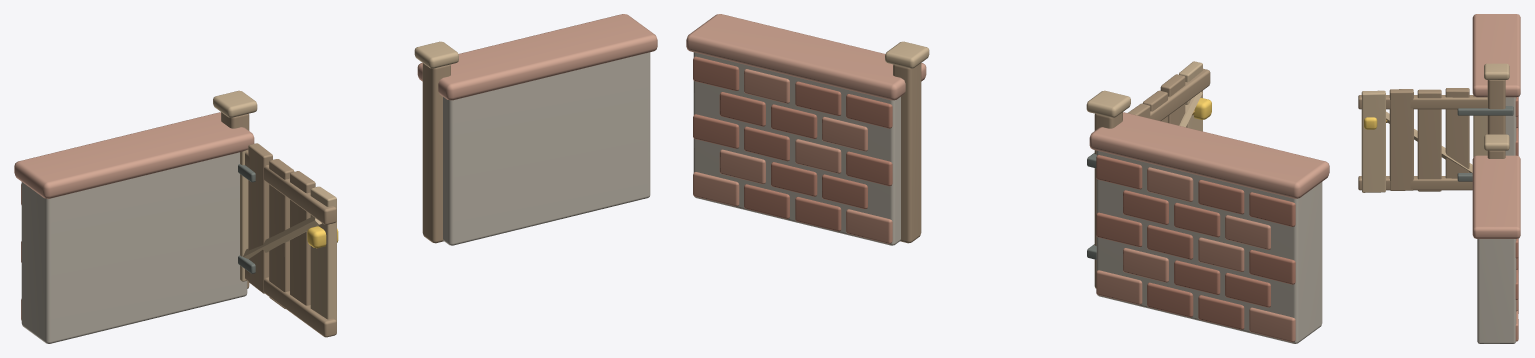
File: side_gate.glb
3 renders of one model, left to right at view 1: azimuth 30°, elevation 25°; view 2: azimuth 150°, elevation 25°; view 3: azimuth 270°, elevation 25°, orthographic. The views are drawn at different scales.
Visible parts, largest first — view 1: Mortar wall core.002, Mortar wall core.003, Coping brick.002, Coping brick.003, Weathered timber gate post.003, Gate paling.006, Gate paling.009, Gate paling.007, Gate paling.008, Gate cross rail.003, Gate cross rail.002, Gate post cap.002 (+3 smaller); view 2: Mortar wall core.002, Mortar wall core.003, Coping brick.002, Coping brick.003, Weathered timber gate post.003, Hand-laid garden brick.061, Hand-laid garden brick.050, Hand-laid garden brick.036, Hand-laid garden brick.037, Hand-laid garden brick.051, Hand-laid garden brick.053, Hand-laid garden brick.043 (+35 smaller); view 3: Mortar wall core.003, Coping brick.003, Coping brick.002, Gate paling.008, Gate paling.009, Gate paling.007, Gate paling.006, Gate cross rail.003, Weathered timber gate post.002, Gate cross rail.002, Gate paling.005, Mortar wall core.002 (+7 smaller).
Boxes of the visible parts, <box> form: Mortar wall core.002: <box>21,152,247,343</box>; Mortar wall core.003: <box>443,52,650,245</box>; Coping brick.002: <box>14,112,254,198</box>; Coping brick.003: <box>417,14,657,100</box>; Weathered timber gate post.003: <box>422,63,450,243</box>; Gate paling.006: <box>248,143,272,293</box>; Gate paling.009: <box>310,186,336,333</box>; Gate paling.007: <box>269,159,294,308</box>; Gate paling.008: <box>290,171,315,305</box>; Gate cross rail.003: <box>245,151,336,224</box>; Gate cross rail.002: <box>245,269,336,337</box>; Gate post cap.002: <box>213,90,257,117</box>; Mortar wall core.002: <box>1096,150,1322,343</box>; Mortar wall core.003: <box>693,52,900,245</box>; Coping brick.002: <box>1089,112,1329,198</box>; Coping brick.003: <box>686,14,926,100</box>; Weathered timber gate post.003: <box>893,63,921,243</box>; Hand-laid garden brick.061: <box>846,151,892,186</box>; Hand-laid garden brick.050: <box>1249,192,1295,226</box>; Hand-laid garden brick.036: <box>1249,307,1295,342</box>; Hand-laid garden brick.037: <box>1198,295,1244,329</box>; Hand-laid garden brick.051: <box>1198,180,1244,214</box>; Hand-laid garden brick.053: <box>1096,155,1142,189</box>; Hand-laid garden brick.043: <box>1249,250,1295,284</box>; Mortar wall core.003: <box>1477,239,1516,343</box>; Coping brick.003: <box>1472,155,1520,238</box>; Coping brick.002: <box>1472,14,1520,97</box>; Gate paling.008: <box>1389,89,1413,190</box>; Gate paling.009: <box>1361,90,1385,192</box>; Gate paling.007: <box>1417,89,1441,191</box>; Gate paling.006: <box>1445,88,1469,178</box>; Gate cross rail.003: <box>1358,95,1487,109</box>; Weathered timber gate post.002: <box>1487,80,1505,134</box>; Gate cross rail.002: <box>1358,176,1472,190</box>; Gate paling.005: <box>1473,95,1487,157</box>; Mortar wall core.002: <box>1505,97,1516,155</box>.
Bounding box in the file's own units: 4.57 × 1.35 × 1.46.
